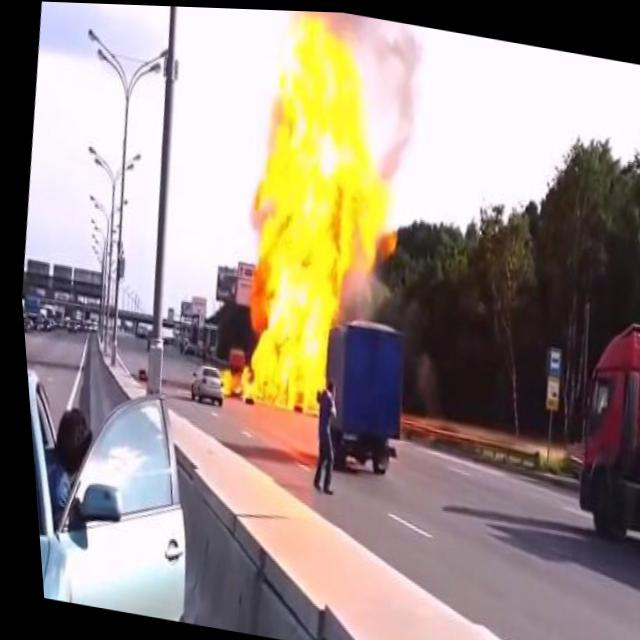fire: (193, 6, 432, 428)
